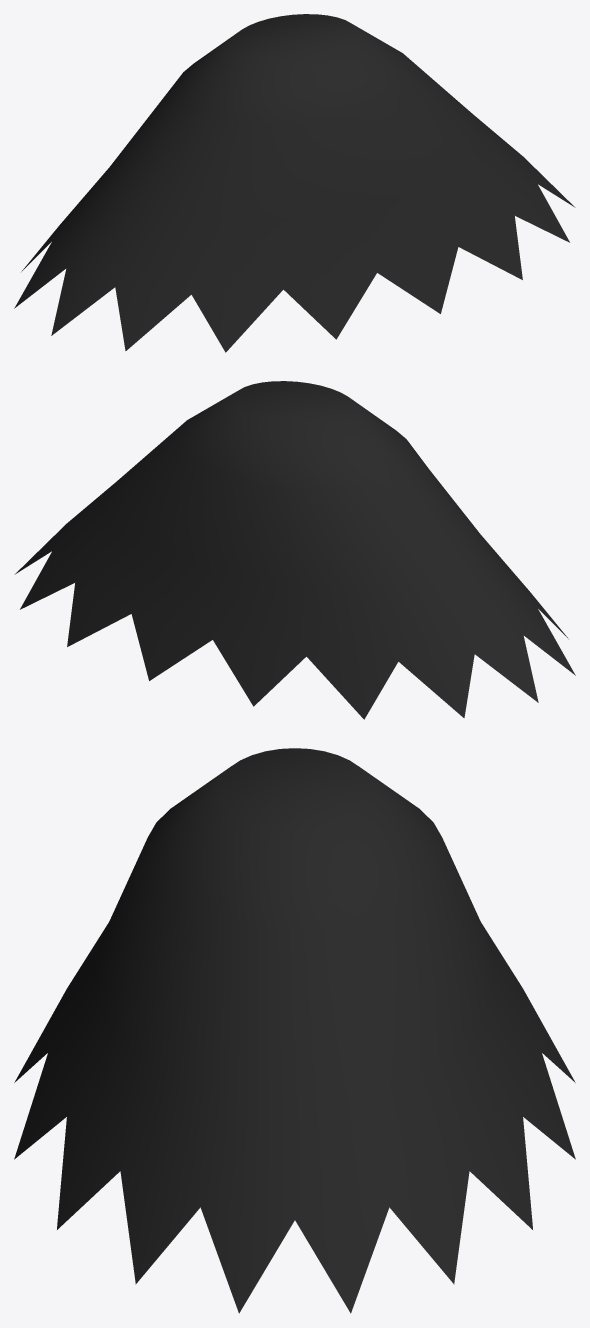
The model's file is Girl_Mantle.fbx.
The picture shows the model from 3 angles, top to bottom: view 1: azimuth 30°, elevation 25°; view 2: azimuth 150°, elevation 25°; view 3: azimuth 270°, elevation 25°; orthographic projection. The views are drawn at different scales.
Visible parts, largest first — view 1: Mantle; view 2: Mantle; view 3: Mantle.
Boxes of the visible parts, x1,y1,x2,y2 form: Mantle: (14, 14, 575, 352); Mantle: (14, 381, 575, 719); Mantle: (14, 748, 575, 1313).
Size of the model in its own units: 158 by 63.59 by 97.58.
